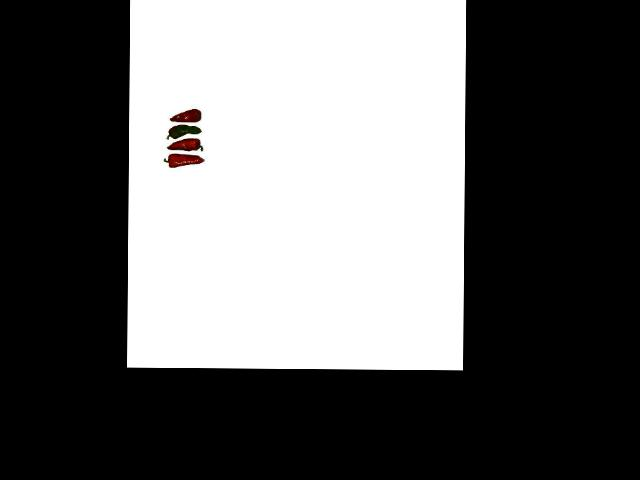bell_pepper: (166, 105, 202, 123)
